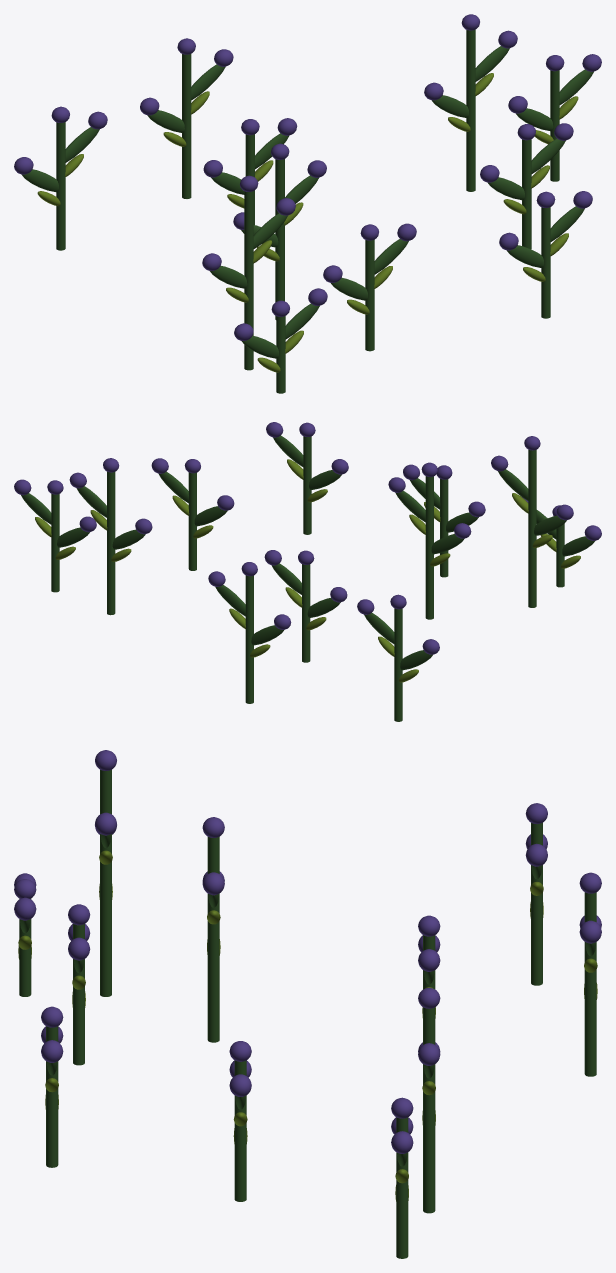
File: CMU3DRMCGrassc4.glb
The picture shows the model from 3 angles, top to bottom: view 1: azimuth 30°, elevation 25°; view 2: azimuth 150°, elevation 25°; view 3: azimuth 270°, elevation 25°; orthographic projection. The views are drawn at different scales.
Visible parts, largest first — view 1: flower stalk 2, flower stalk 6, flower stalk 1, flower stalk 0, flower stalk 5, flower stalk 8, flower stalk 10, flower stalk 9, flower stalk 4, flower stalk 7, flower stalk 0 diagonal branch 1, flower stalk 7 diagonal branch 1 (+8 smaller); view 2: flower stalk 6, flower stalk 5, flower stalk 2, flower stalk 1, flower stalk 0, flower stalk 4, flower stalk 10, flower stalk 9, flower stalk 3, flower stalk 8, flower stalk 7, flower stalk 6 diagonal branch 1 (+6 smaller); view 3: flower stalk 6, flower stalk 2, flower stalk 5, flower stalk 1, flower stalk 0, flower stalk 4, flower stalk 9, flower stalk 10, flower stalk 8, flower stalk 7.
Boxes of the visible parts, left/top/right/bottom form: flower stalk 2: left=466, top=29, right=475, bottom=191; flower stalk 6: left=244, top=191, right=253, bottom=370; flower stalk 1: left=182, top=54, right=191, bottom=198; flower stalk 0: left=56, top=122, right=65, bottom=250; flower stalk 5: left=275, top=159, right=284, bottom=319; flower stalk 8: left=365, top=239, right=374, bottom=351; flower stalk 10: left=541, top=207, right=550, bottom=318; flower stalk 9: left=522, top=139, right=531, bottom=248; flower stalk 4: left=550, top=70, right=559, bottom=181; flower stalk 7: left=276, top=316, right=285, bottom=393; flower stalk 0 diagonal branch 1: left=65, top=127, right=99, bottom=162; flower stalk 7 diagonal branch 1: left=285, top=303, right=319, bottom=339; flower stalk 6: left=528, top=449, right=536, bottom=607; flower stalk 5: left=425, top=476, right=433, bottom=619; flower stalk 2: left=107, top=471, right=115, bottom=615; flower stalk 1: left=245, top=575, right=253, bottom=703; flower stalk 0: left=394, top=608, right=402, bottom=721; flower stalk 4: left=51, top=494, right=59, bottom=592; flower stalk 10: left=303, top=436, right=311, bottom=534; flower stalk 9: left=188, top=472, right=196, bottom=570; flower stalk 3: left=302, top=564, right=310, bottom=662; flower stalk 8: left=440, top=479, right=448, bottom=577; flower stalk 7: left=556, top=524, right=564, bottom=587; flower stalk 6 diagonal branch 1: left=498, top=469, right=528, bottom=500; flower stalk 6: left=100, top=770, right=111, bottom=996; flower stalk 2: left=423, top=1007, right=435, bottom=1213; flower stalk 5: left=207, top=837, right=219, bottom=1042; flower stalk 1: left=584, top=892, right=596, bottom=1076; flower stalk 0: left=531, top=823, right=542, bottom=985; flower stalk 4: left=396, top=1117, right=408, bottom=1258; flower stalk 9: left=234, top=1060, right=246, bottom=1201; flower stalk 10: left=46, top=1026, right=58, bottom=1167; flower stalk 8: left=73, top=924, right=84, bottom=1065; flower stalk 7: left=19, top=898, right=31, bottom=996.
Bounding box in the file's own units: 0.906 × 0.3115 × 0.6823.
